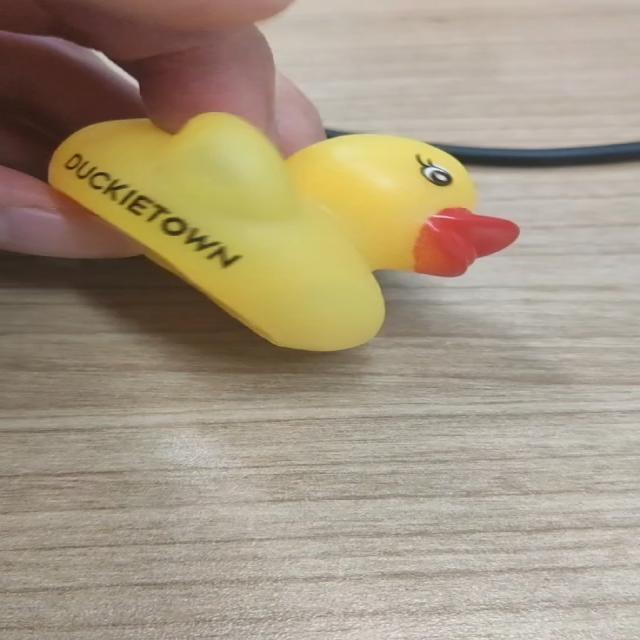rubber-duck: (48, 112, 516, 349)
